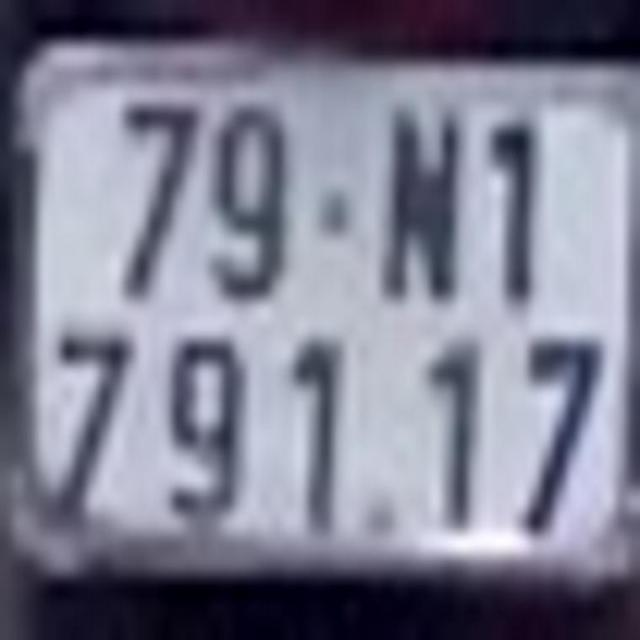1: (289, 334, 352, 540), (426, 330, 489, 536), (495, 115, 541, 306)
7: (36, 325, 141, 522), (106, 84, 200, 303), (515, 331, 602, 538)
9: (208, 87, 285, 307), (164, 338, 238, 522)
N: (383, 106, 468, 305)
